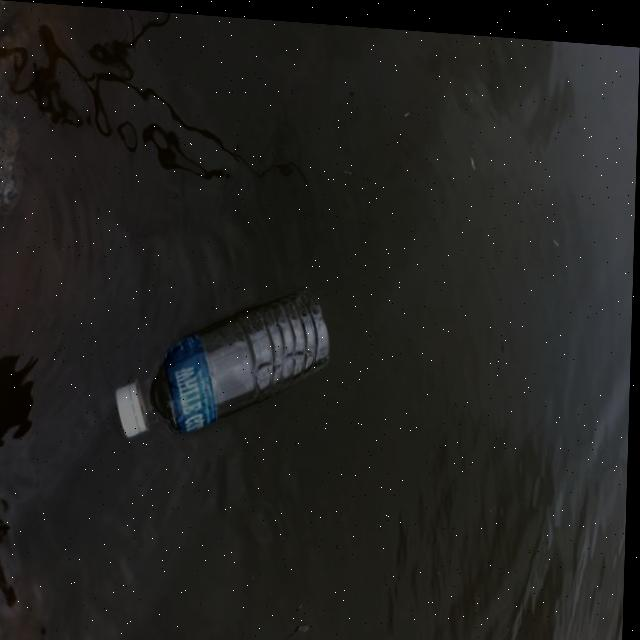waterbottle: (86, 256, 345, 453)
